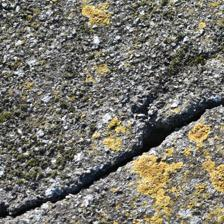Crack: (4, 51, 210, 170)
